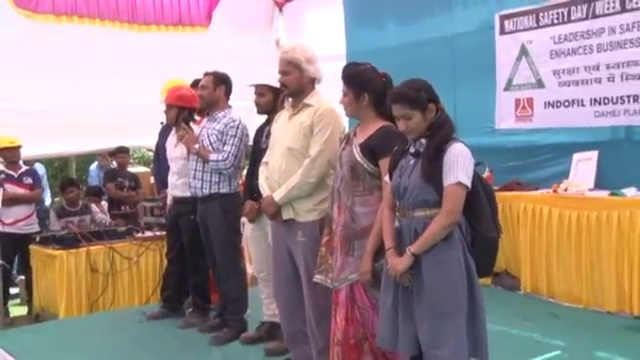helmet: (163, 84, 199, 113), (247, 65, 285, 90), (0, 134, 24, 152)
helmet_off: (383, 78, 449, 156), (335, 62, 392, 133), (271, 44, 321, 98), (194, 71, 233, 119), (54, 176, 80, 207), (84, 185, 104, 210), (111, 146, 131, 170), (95, 153, 114, 170)
helmet_on: (249, 66, 285, 119), (163, 84, 199, 132), (0, 135, 23, 165)
person: (382, 80, 505, 360), (256, 45, 345, 360), (332, 62, 408, 360), (183, 78, 251, 340), (140, 87, 205, 332), (240, 62, 287, 357), (0, 134, 45, 326), (50, 175, 126, 230), (101, 146, 143, 219), (87, 151, 114, 188)
